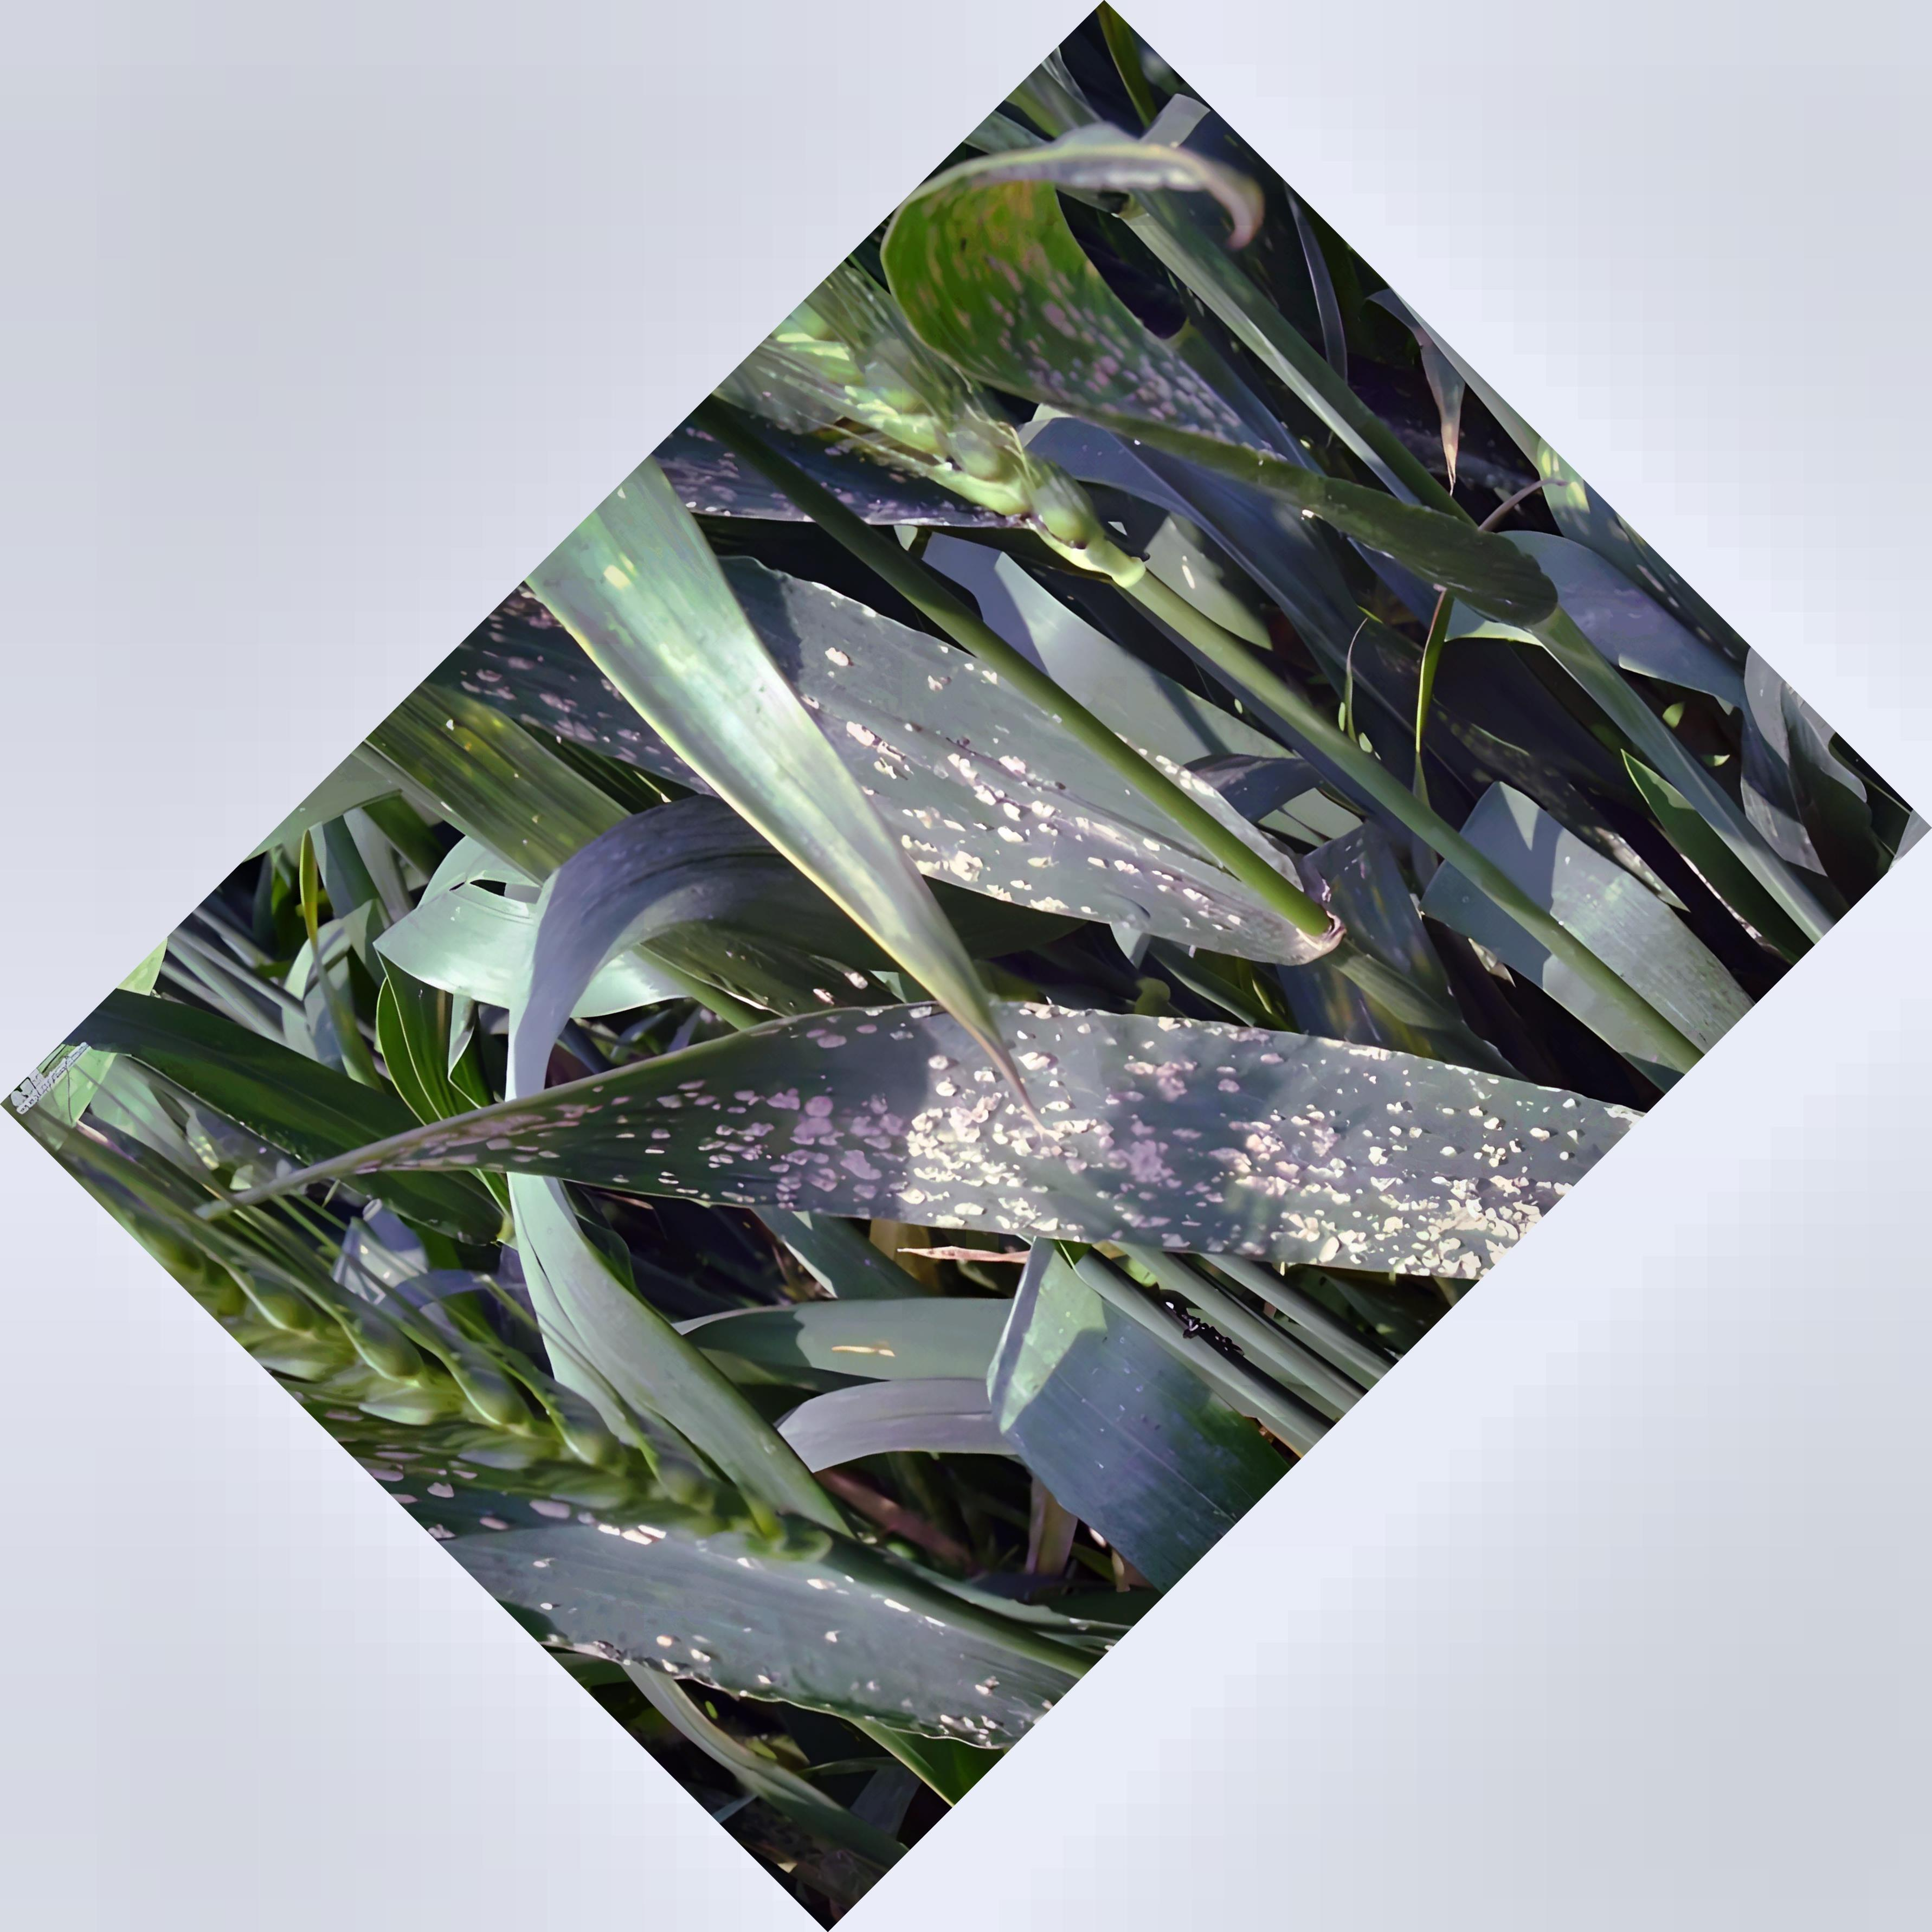Powdery Mildew: (708, 1014, 1514, 1284)
